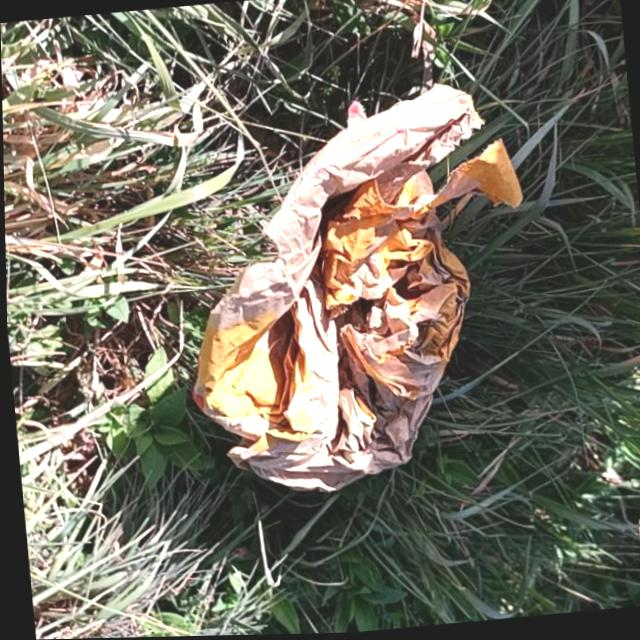Paper: (162, 74, 548, 506)
